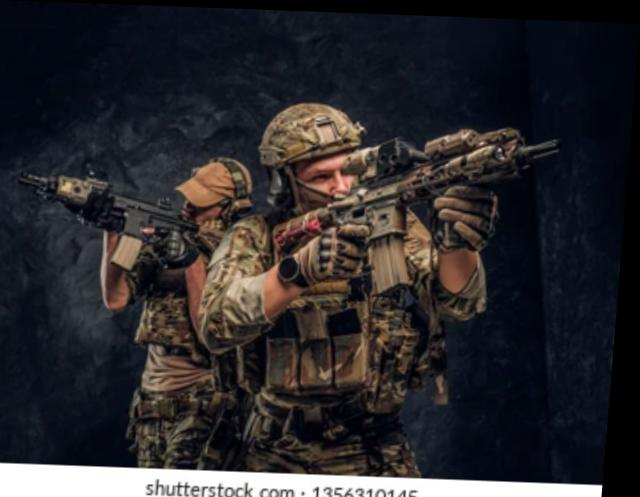other: (234, 92, 504, 459), (86, 160, 256, 462)
